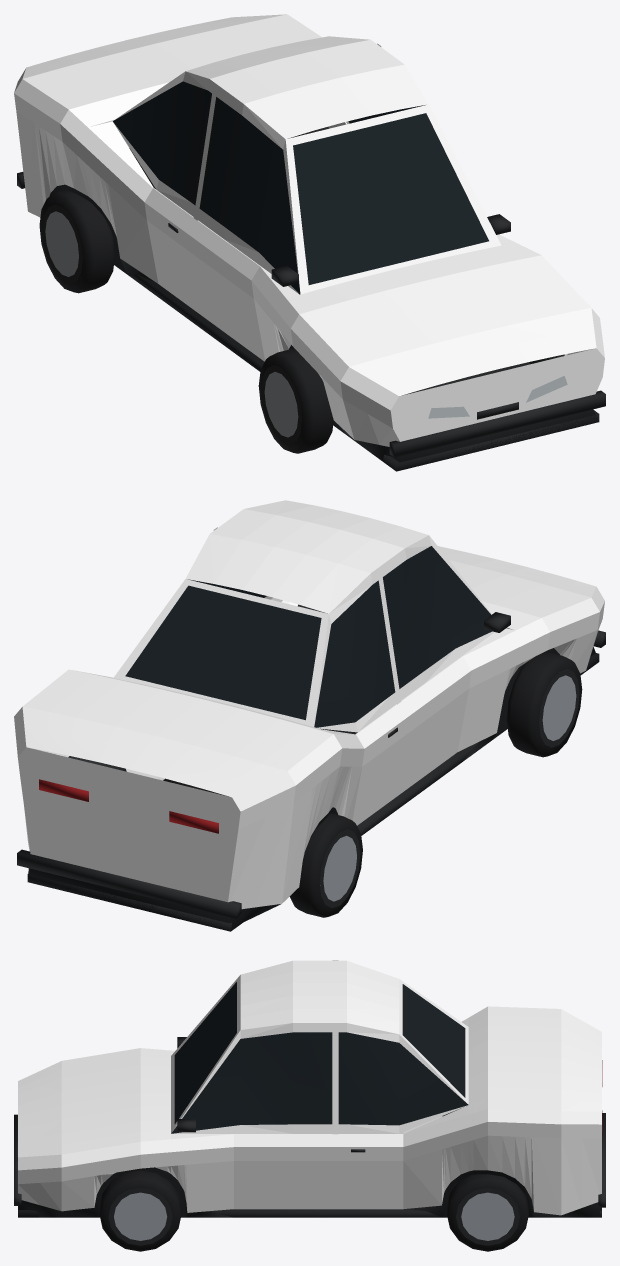
Rendered from ostwerk_barrao.glb.
The picture shows the model from 3 angles, top to bottom: view 1: azimuth 30°, elevation 25°; view 2: azimuth 150°, elevation 25°; view 3: azimuth 270°, elevation 25°; orthographic projection. The views are drawn at different scales.
Visible parts, largest first — view 1: Body_Paint, Body_Details, Mount_RearLeft_Wheel_Details, Mount_FrontLeft_Wheel_Details; view 2: Body_Paint, Body_Details, Mount_FrontLeft_Wheel_Details, Mount_RearLeft_Wheel_Details; view 3: Body_Paint, Body_Details, Mount_FrontRight_Wheel_Details, Mount_RearRight_Wheel_Details.
Part boxes in pixels (bbox=[...]): Body_Paint: bbox=[14, 14, 604, 446]; Body_Details: bbox=[17, 81, 605, 471]; Mount_RearLeft_Wheel_Details: bbox=[39, 190, 114, 293]; Mount_FrontLeft_Wheel_Details: bbox=[258, 348, 333, 453]; Body_Paint: bbox=[14, 500, 604, 909]; Body_Details: bbox=[17, 546, 605, 931]; Mount_FrontLeft_Wheel_Details: bbox=[506, 652, 582, 757]; Mount_RearLeft_Wheel_Details: bbox=[289, 813, 362, 917]; Body_Paint: bbox=[18, 960, 601, 1215]; Body_Details: bbox=[14, 982, 605, 1217]; Mount_FrontRight_Wheel_Details: bbox=[99, 1170, 181, 1251]; Mount_RearRight_Wheel_Details: bbox=[447, 1174, 528, 1251].
Size of the model in its own units: 1.82 by 1.64 by 4.18.
2 materials, 1 textured.
